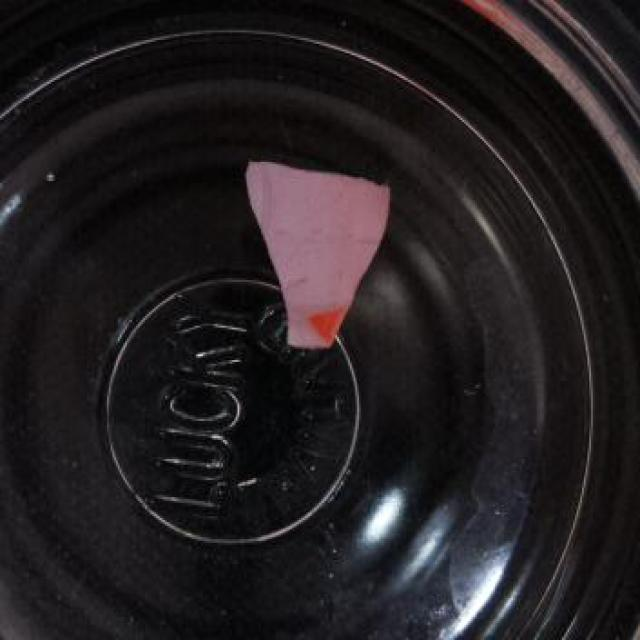fiber: (230, 139, 399, 362)
